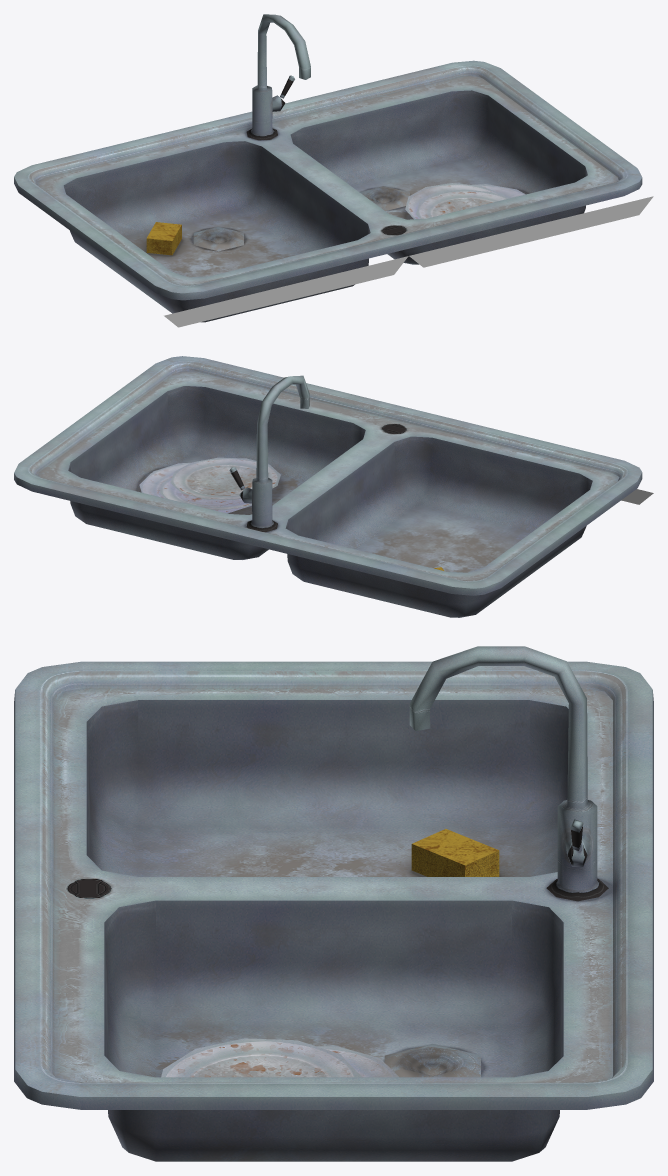
Rendered from Cupboard_kitch_down2_LOD1.fbx.
3 views of the same model, one above another, from view 1: azimuth 30°, elevation 25°; view 2: azimuth 150°, elevation 25°; view 3: azimuth 270°, elevation 25° (orthographic). The views are drawn at different scales.
Visible parts, largest first — view 1: Sink2; view 2: Sink2; view 3: Sink2.
Part boxes in pixels (<box>): Sink2: <box>14,14,653,327</box>; Sink2: <box>14,356,653,617</box>; Sink2: <box>14,646,653,1161</box>.
Size of what is drawn, in the model's own units: 100 by 37.27 by 61.11.
